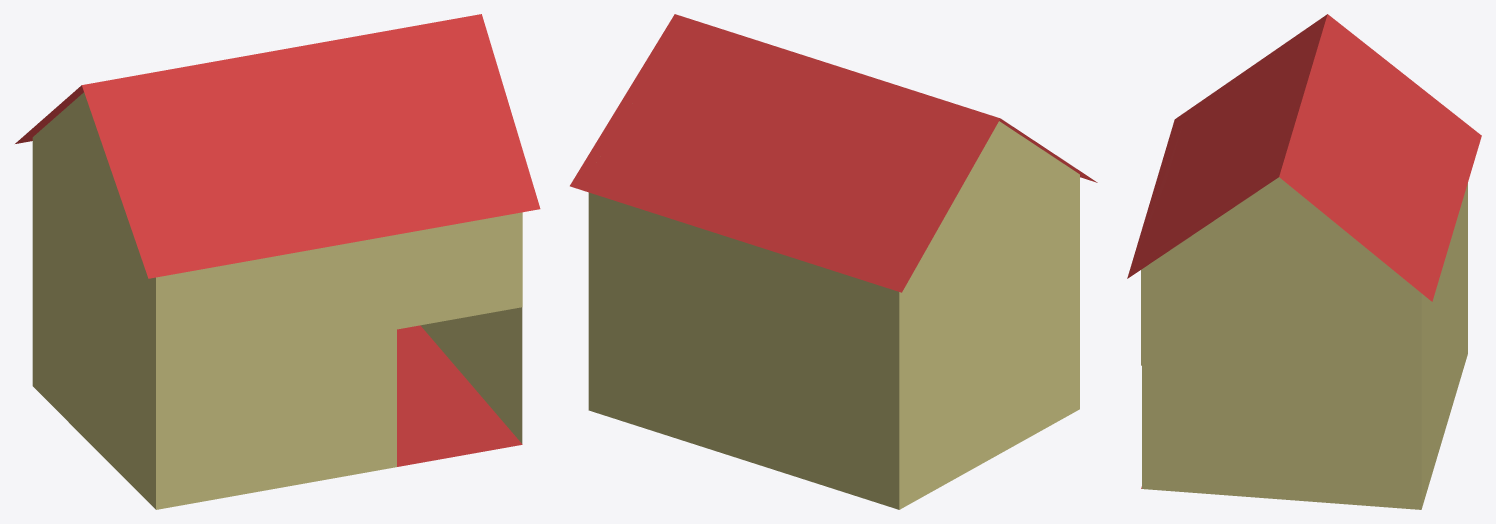
The picture shows the model from 3 angles, left to right: view 1: azimuth 30°, elevation 25°; view 2: azimuth 150°, elevation 25°; view 3: azimuth 270°, elevation 25°; orthographic projection. The views are drawn at different scales.
Bounding box in the file's own units: 17.19 × 14.1 × 14.37.
